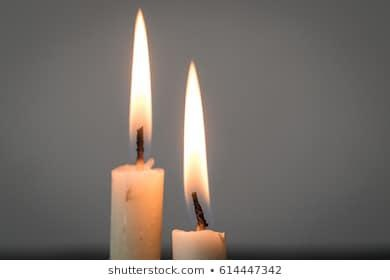fire: (179, 57, 209, 217), (127, 8, 153, 159)
